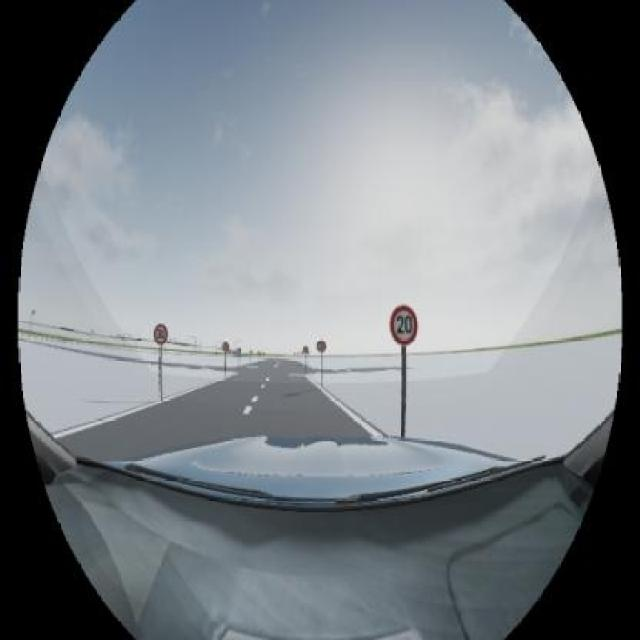forb_speed_over_20: (390, 306, 418, 345)
forb_speed_over_30: (154, 323, 168, 345)
